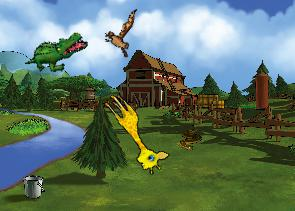crocodile: (23, 18, 90, 86)
eagle: (101, 9, 142, 60)
giraffe: (93, 89, 173, 178)
